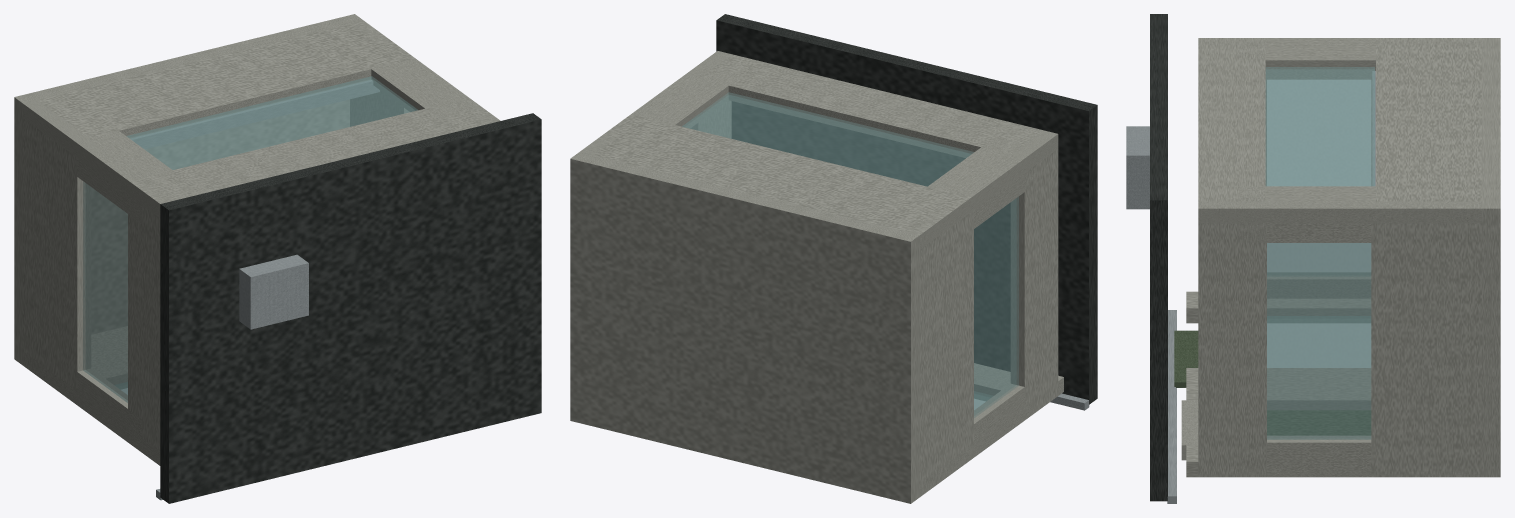
The model's file is Guard_Hut_3p4x2p5m.glb.
3 views of the same model, side by side, from view 1: azimuth 30°, elevation 25°; view 2: azimuth 150°, elevation 25°; view 3: azimuth 270°, elevation 25° (orthographic). The views are drawn at different scales.
Visible parts, largest first — view 1: Guard_Hut_3p4x2p5m__LIFT_OFF_ROOF_PANEL, Guard_Hut_3p4x2p5m__REAR_SILL_WALL, Guard_Hut_3p4x2p5m__LEFT_LOW_WALL, Guard_Hut_3p4x2p5m__WALKABLE_FLOOR_SLAB, Guard_Hut_3p4x2p5m__REAR_GLAZING_PANE, Guard_Hut_3p4x2p5m__REAR_HEADER_WALL, Guard_Hut_3p4x2p5m__LEFT_GLASS, Guard_Hut_3p4x2p5m__LEFT_HIGH_WALL, Guard_Hut_3p4x2p5m__ROOF_VENT_UNIT, Guard_Hut_3p4x2p5m__REAR_PIER_+1.48, Guard_Hut_3p4x2p5m__REAR_WINDOW_SILL, Guard_Hut_3p4x2p5m__REAR_PIER_-1.48 (+5 smaller); view 2: Guard_Hut_3p4x2p5m__WALKABLE_FLOOR_SLAB, Guard_Hut_3p4x2p5m__LIFT_OFF_ROOF_PANEL, Guard_Hut_3p4x2p5m__REAR_SILL_WALL, Guard_Hut_3p4x2p5m__REAR_HEADER_WALL, Guard_Hut_3p4x2p5m__LEFT_LOW_WALL, Guard_Hut_3p4x2p5m__LEFT_HIGH_WALL, Guard_Hut_3p4x2p5m__REAR_GLAZING_PANE, Guard_Hut_3p4x2p5m__LEFT_GLASS, Guard_Hut_3p4x2p5m__REAR_PIER_+1.48, Guard_Hut_3p4x2p5m__REAR_PIER_-1.48, Guard_Hut_3p4x2p5m__LEFT_PIER_-1.09, Guard_Hut_3p4x2p5m__FRONT_PIER_0 (+3 smaller); view 3: Guard_Hut_3p4x2p5m__RIGHT_LOW_WALL, Guard_Hut_3p4x2p5m__RIGHT_GLASS, Guard_Hut_3p4x2p5m__REAR_SILL_WALL, Guard_Hut_3p4x2p5m__RIGHT_HIGH_WALL, Guard_Hut_3p4x2p5m__LEFT_GLASS, Guard_Hut_3p4x2p5m__REAR_GLAZING_PANE, Guard_Hut_3p4x2p5m__REAR_HEADER_WALL, Guard_Hut_3p4x2p5m__WALKABLE_FLOOR_SLAB, Guard_Hut_3p4x2p5m__LIFT_OFF_ROOF_PANEL, Guard_Hut_3p4x2p5m__FRONT_WINDOW_PANE, Guard_Hut_3p4x2p5m__FRONT_PIER_1, Guard_Hut_3p4x2p5m__REAR_PIER_+1.48 (+15 smaller).
Boxes of the visible parts, bbox=[...] form: Guard_Hut_3p4x2p5m__LIFT_OFF_ROOF_PANEL: bbox=[160, 113, 541, 503]; Guard_Hut_3p4x2p5m__REAR_SILL_WALL: bbox=[23, 21, 415, 155]; Guard_Hut_3p4x2p5m__LEFT_LOW_WALL: bbox=[23, 100, 90, 393]; Guard_Hut_3p4x2p5m__WALKABLE_FLOOR_SLAB: bbox=[14, 14, 363, 365]; Guard_Hut_3p4x2p5m__REAR_GLAZING_PANE: bbox=[126, 76, 417, 169]; Guard_Hut_3p4x2p5m__REAR_HEADER_WALL: bbox=[128, 100, 500, 218]; Guard_Hut_3p4x2p5m__LEFT_GLASS: bbox=[83, 181, 127, 402]; Guard_Hut_3p4x2p5m__LEFT_HIGH_WALL: bbox=[128, 179, 173, 463]; Guard_Hut_3p4x2p5m__ROOF_VENT_UNIT: bbox=[239, 254, 308, 329]; Guard_Hut_3p4x2p5m__REAR_PIER_+1.48: bbox=[371, 59, 482, 118]; Guard_Hut_3p4x2p5m__REAR_WINDOW_SILL: bbox=[130, 80, 379, 148]; Guard_Hut_3p4x2p5m__REAR_PIER_-1.48: bbox=[75, 131, 172, 195]; Guard_Hut_3p4x2p5m__WALKABLE_FLOOR_SLAB: bbox=[570, 152, 919, 503]; Guard_Hut_3p4x2p5m__LIFT_OFF_ROOF_PANEL: bbox=[716, 14, 1097, 404]; Guard_Hut_3p4x2p5m__REAR_SILL_WALL: bbox=[580, 114, 971, 249]; Guard_Hut_3p4x2p5m__REAR_HEADER_WALL: bbox=[687, 51, 1058, 172]; Guard_Hut_3p4x2p5m__LEFT_LOW_WALL: bbox=[906, 206, 973, 496]; Guard_Hut_3p4x2p5m__LEFT_HIGH_WALL: bbox=[1011, 130, 1058, 415]; Guard_Hut_3p4x2p5m__REAR_GLAZING_PANE: bbox=[682, 92, 973, 186]; Guard_Hut_3p4x2p5m__LEFT_GLASS: bbox=[974, 197, 1018, 417]; Guard_Hut_3p4x2p5m__REAR_PIER_+1.48: bbox=[631, 65, 741, 128]; Guard_Hut_3p4x2p5m__REAR_PIER_-1.48: bbox=[928, 137, 1026, 211]; Guard_Hut_3p4x2p5m__LEFT_PIER_-1.09: bbox=[974, 384, 1029, 457]; Guard_Hut_3p4x2p5m__FRONT_PIER_0: bbox=[920, 375, 1063, 496]; Guard_Hut_3p4x2p5m__RIGHT_LOW_WALL: bbox=[1371, 201, 1481, 477]; Guard_Hut_3p4x2p5m__RIGHT_GLASS: bbox=[1267, 243, 1371, 439]; Guard_Hut_3p4x2p5m__REAR_SILL_WALL: bbox=[1376, 38, 1481, 223]; Guard_Hut_3p4x2p5m__RIGHT_HIGH_WALL: bbox=[1198, 201, 1266, 477]; Guard_Hut_3p4x2p5m__LEFT_GLASS: bbox=[1267, 80, 1370, 276]; Guard_Hut_3p4x2p5m__REAR_GLAZING_PANE: bbox=[1265, 67, 1374, 186]; Guard_Hut_3p4x2p5m__REAR_HEADER_WALL: bbox=[1198, 38, 1265, 223]; Guard_Hut_3p4x2p5m__WALKABLE_FLOOR_SLAB: bbox=[1481, 38, 1500, 477]; Guard_Hut_3p4x2p5m__LIFT_OFF_ROOF_PANEL: bbox=[1150, 14, 1167, 501]; Guard_Hut_3p4x2p5m__FRONT_WINDOW_PANE: bbox=[1267, 316, 1370, 367]; Guard_Hut_3p4x2p5m__FRONT_PIER_1: bbox=[1186, 368, 1370, 409]; Guard_Hut_3p4x2p5m__REAR_PIER_+1.48: bbox=[1238, 186, 1375, 223].
Size of the model in its own units: 3.72 by 2.82 by 3.15.
Materials: 6 (6 with a texture image).
